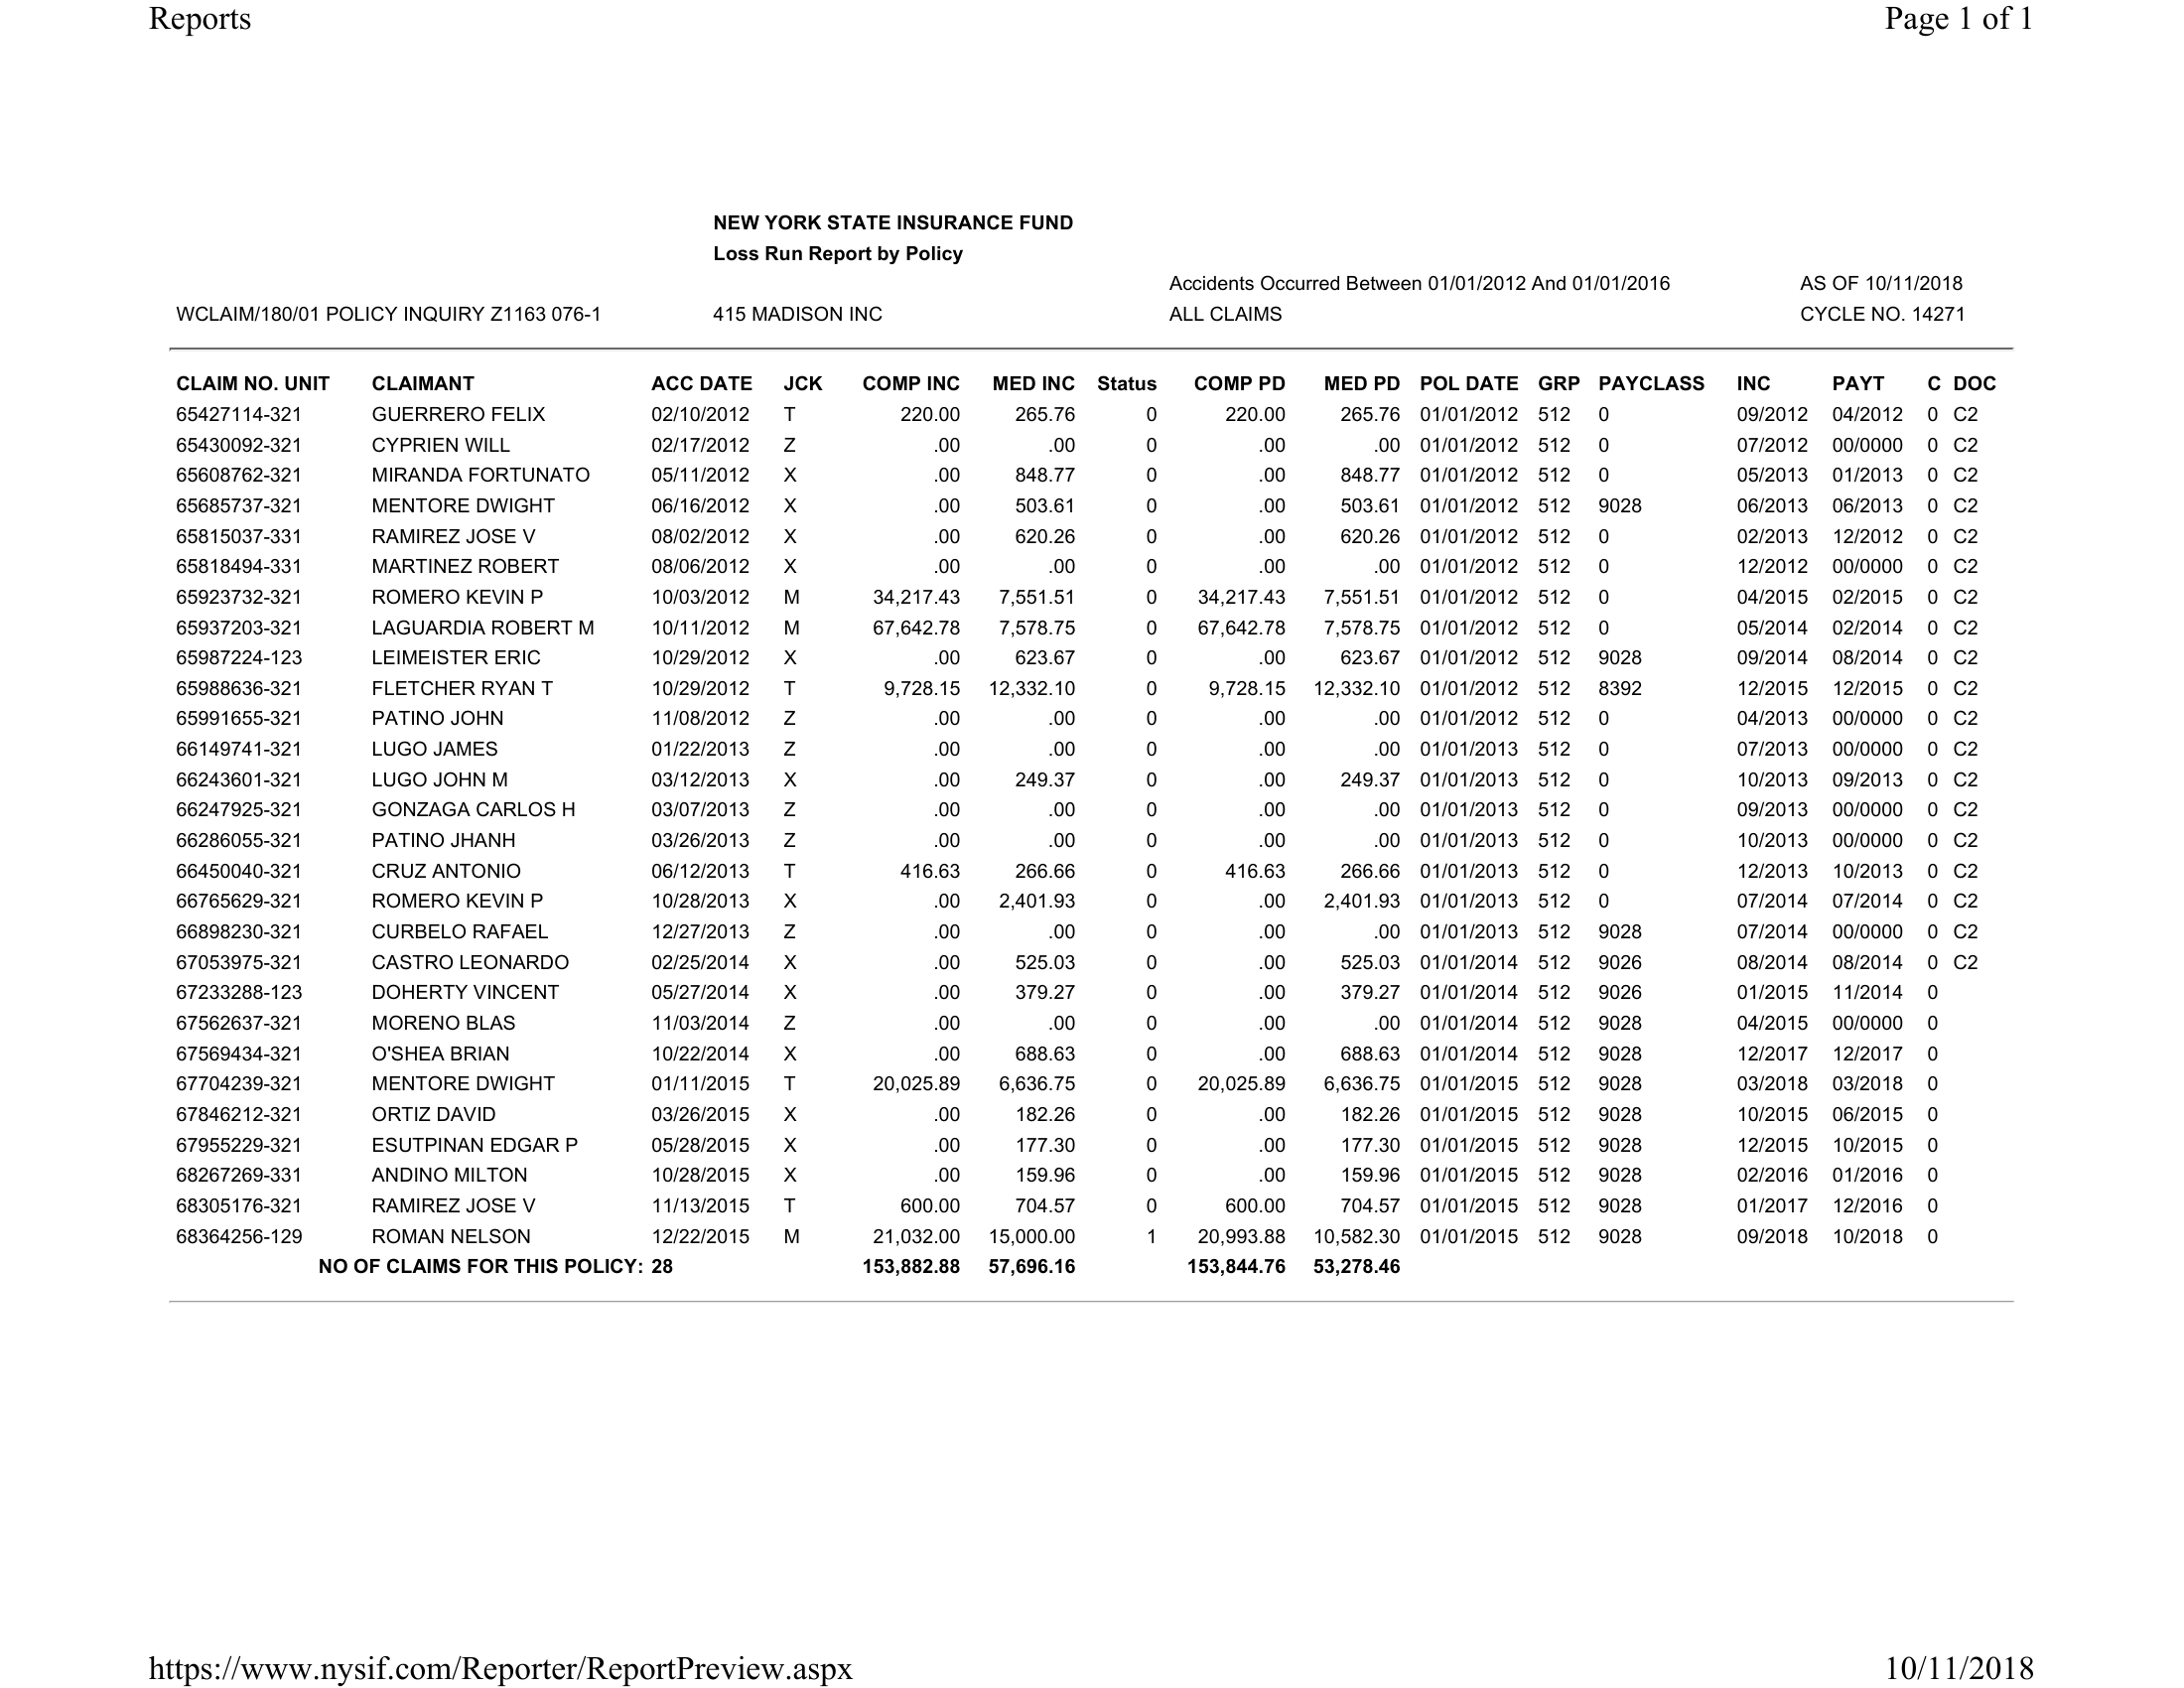others: (156, 344, 2024, 1332)
